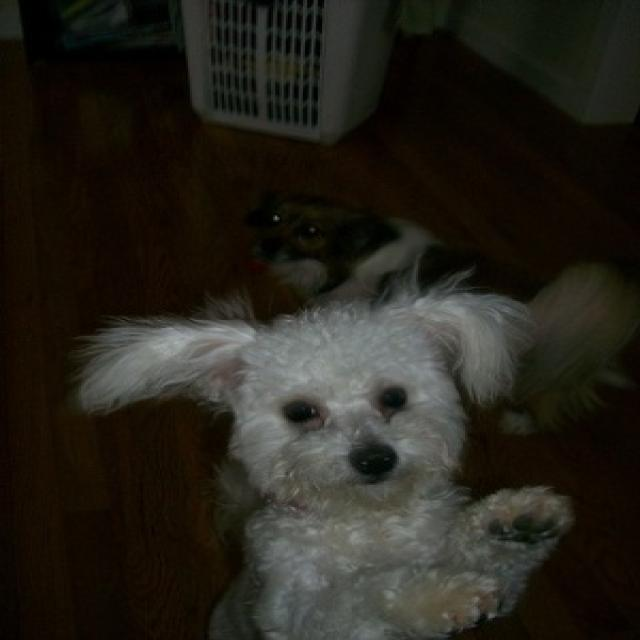Dog: (69, 255, 565, 640), (244, 190, 640, 439)
